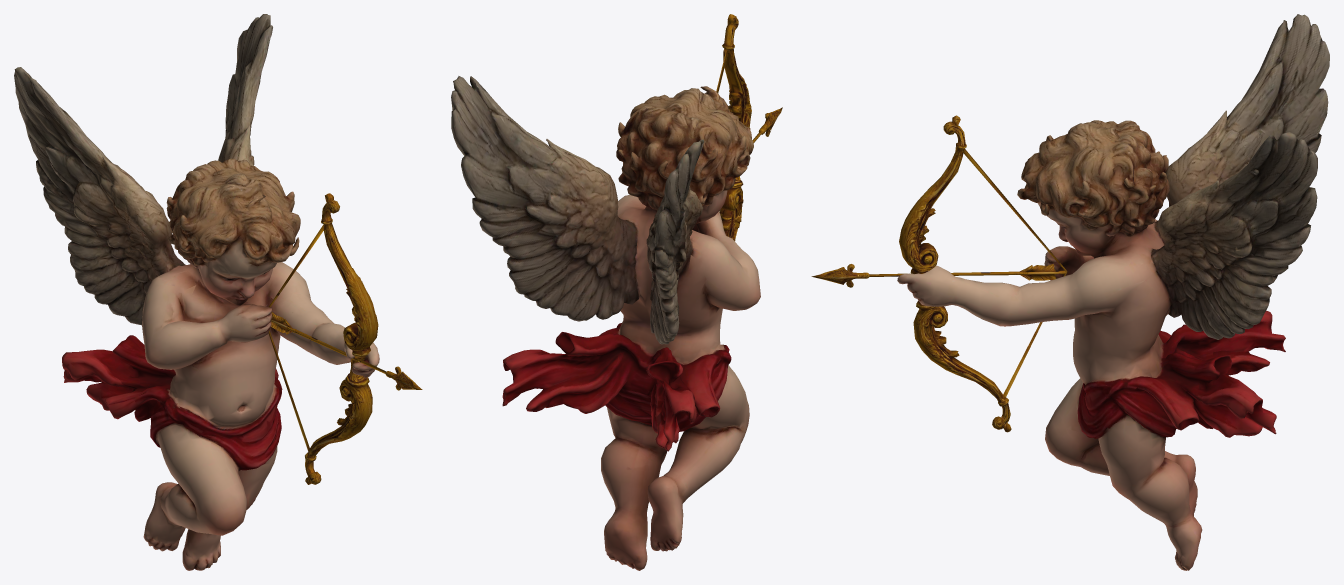
The model's file is Angel.glb.
3 views of the same model, side by side, from view 1: azimuth 30°, elevation 25°; view 2: azimuth 150°, elevation 25°; view 3: azimuth 270°, elevation 25° (orthographic). The views are drawn at different scales.
Parts seen in each view (by area): view 1: tripo_node_eecf40ed, tripo_node_4a665352, tripo_node_4a665352.001; view 2: tripo_node_eecf40ed, tripo_node_4a665352; view 3: tripo_node_eecf40ed, tripo_node_4a665352, tripo_node_4a665352.001.
Boxes of the visible parts, x1,y1,x2,y2 form: tripo_node_eecf40ed: [14, 14, 379, 570]; tripo_node_4a665352: [268, 193, 378, 484]; tripo_node_4a665352.001: [271, 312, 422, 390]; tripo_node_eecf40ed: [451, 76, 760, 570]; tripo_node_4a665352: [716, 14, 751, 240]; tripo_node_eecf40ed: [897, 14, 1329, 570]; tripo_node_4a665352: [899, 115, 1067, 432]; tripo_node_4a665352.001: [811, 264, 1065, 287].
Size of the model in its own units: 0.2011 by 0.3821 by 0.3651.
Materials: 2 (2 with a texture image).
